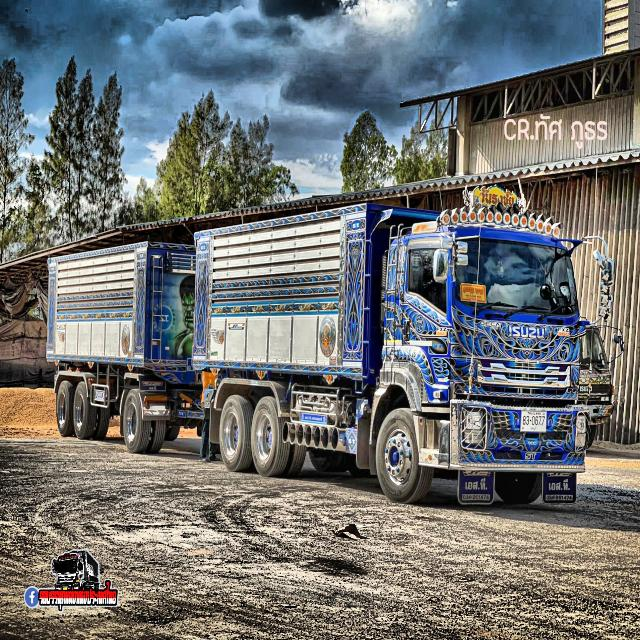trailer: (31, 177, 598, 519)
